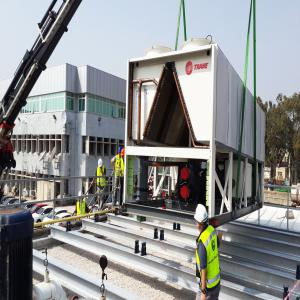blue: (119, 148, 123, 158)
red: (122, 149, 126, 160)
white: (195, 204, 209, 231), (98, 160, 104, 170)
